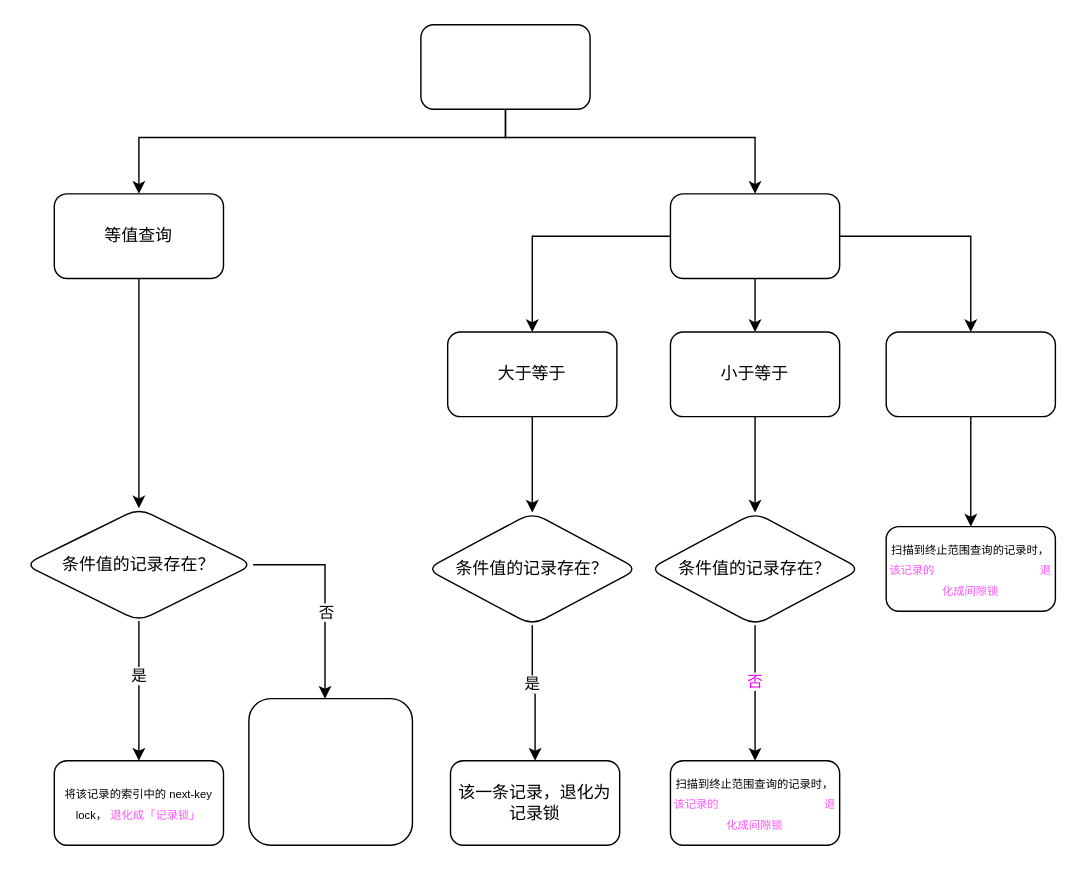
This 1080x870 diagram has some shape labels left out. Here are the shapes that lost their labels. From the top down, the centre of each, then its label:
pixel 504 66: 唯一索引
pixel 754 235: 范围查询
pixel 970 374: 小于
pixel 329 771: 将临界值记录（索引树上 第一条大于该查询记录的记录 ）的索引中的 next-key lock ， 退化成「间隙锁」
